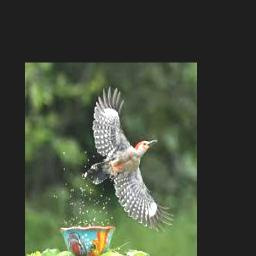Woodpecker: (86, 87, 174, 230)
